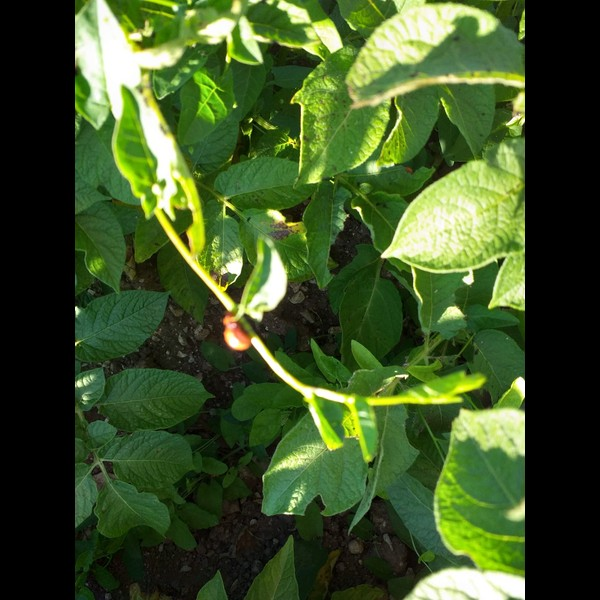hrosc: (217, 312, 253, 353)
